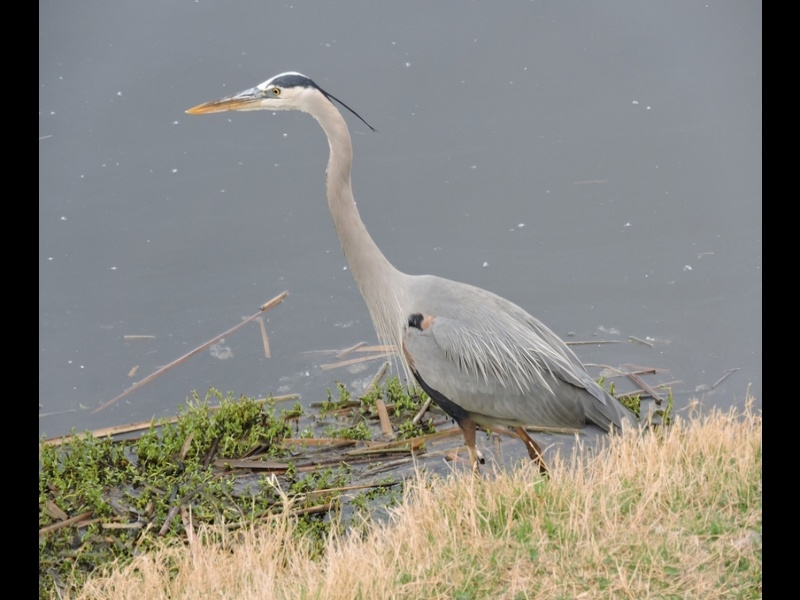heron: (180, 65, 640, 489)
